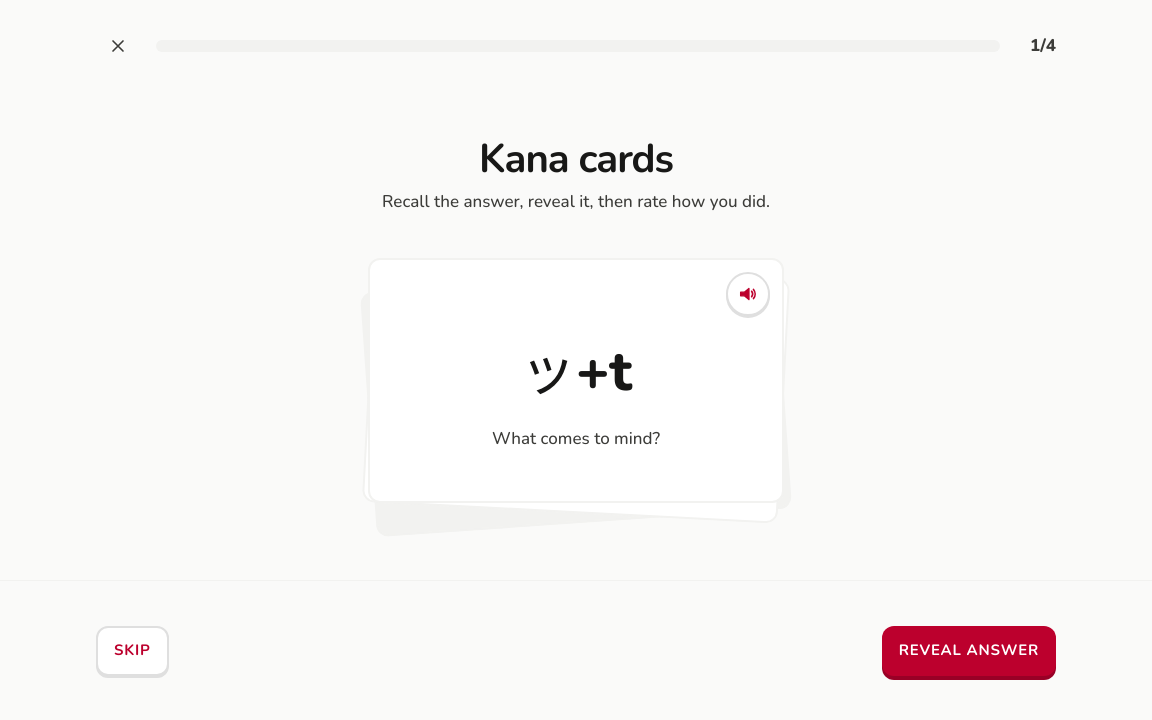
Scenario: ignores held or modified shortcuts and scores each card once
The width and height of the screenshot is (1152, 720).
Expected: the heading "Kana cards" is shown, [479,132,673,186]
Click the button "Reveal answer": point(969, 650) [882,626,1056,676]
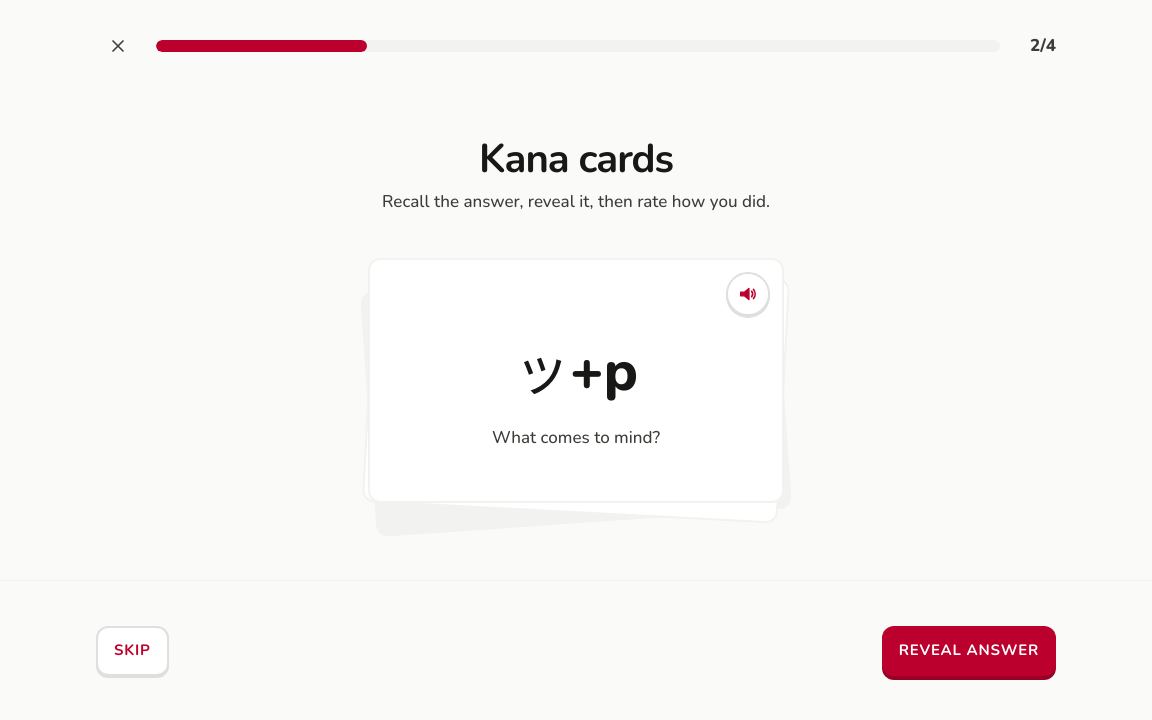
Now the text "2/4" is shown, box [1030,34,1056,57]
